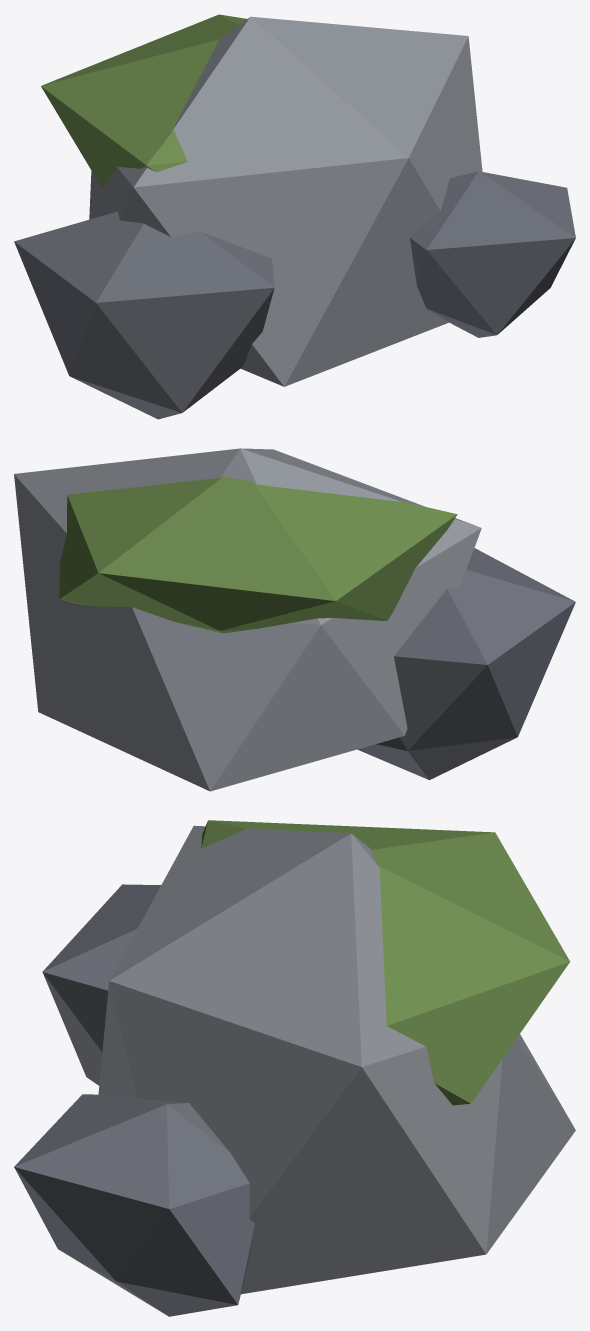
The model's file is jungle_rock_a.glb.
3 views of the same model, one above another, from view 1: azimuth 30°, elevation 25°; view 2: azimuth 150°, elevation 25°; view 3: azimuth 270°, elevation 25° (orthographic). The views are drawn at different scales.
Visible parts, largest first — view 1: jungle_rock_a; view 2: jungle_rock_a; view 3: jungle_rock_a.
Part boxes in pixels (x1,y1,x2,y2): jungle_rock_a: (14, 14, 575, 419); jungle_rock_a: (14, 448, 575, 791); jungle_rock_a: (14, 820, 575, 1316).
Bounding box in the file's own units: 3.94 × 2.56 × 3.1.
